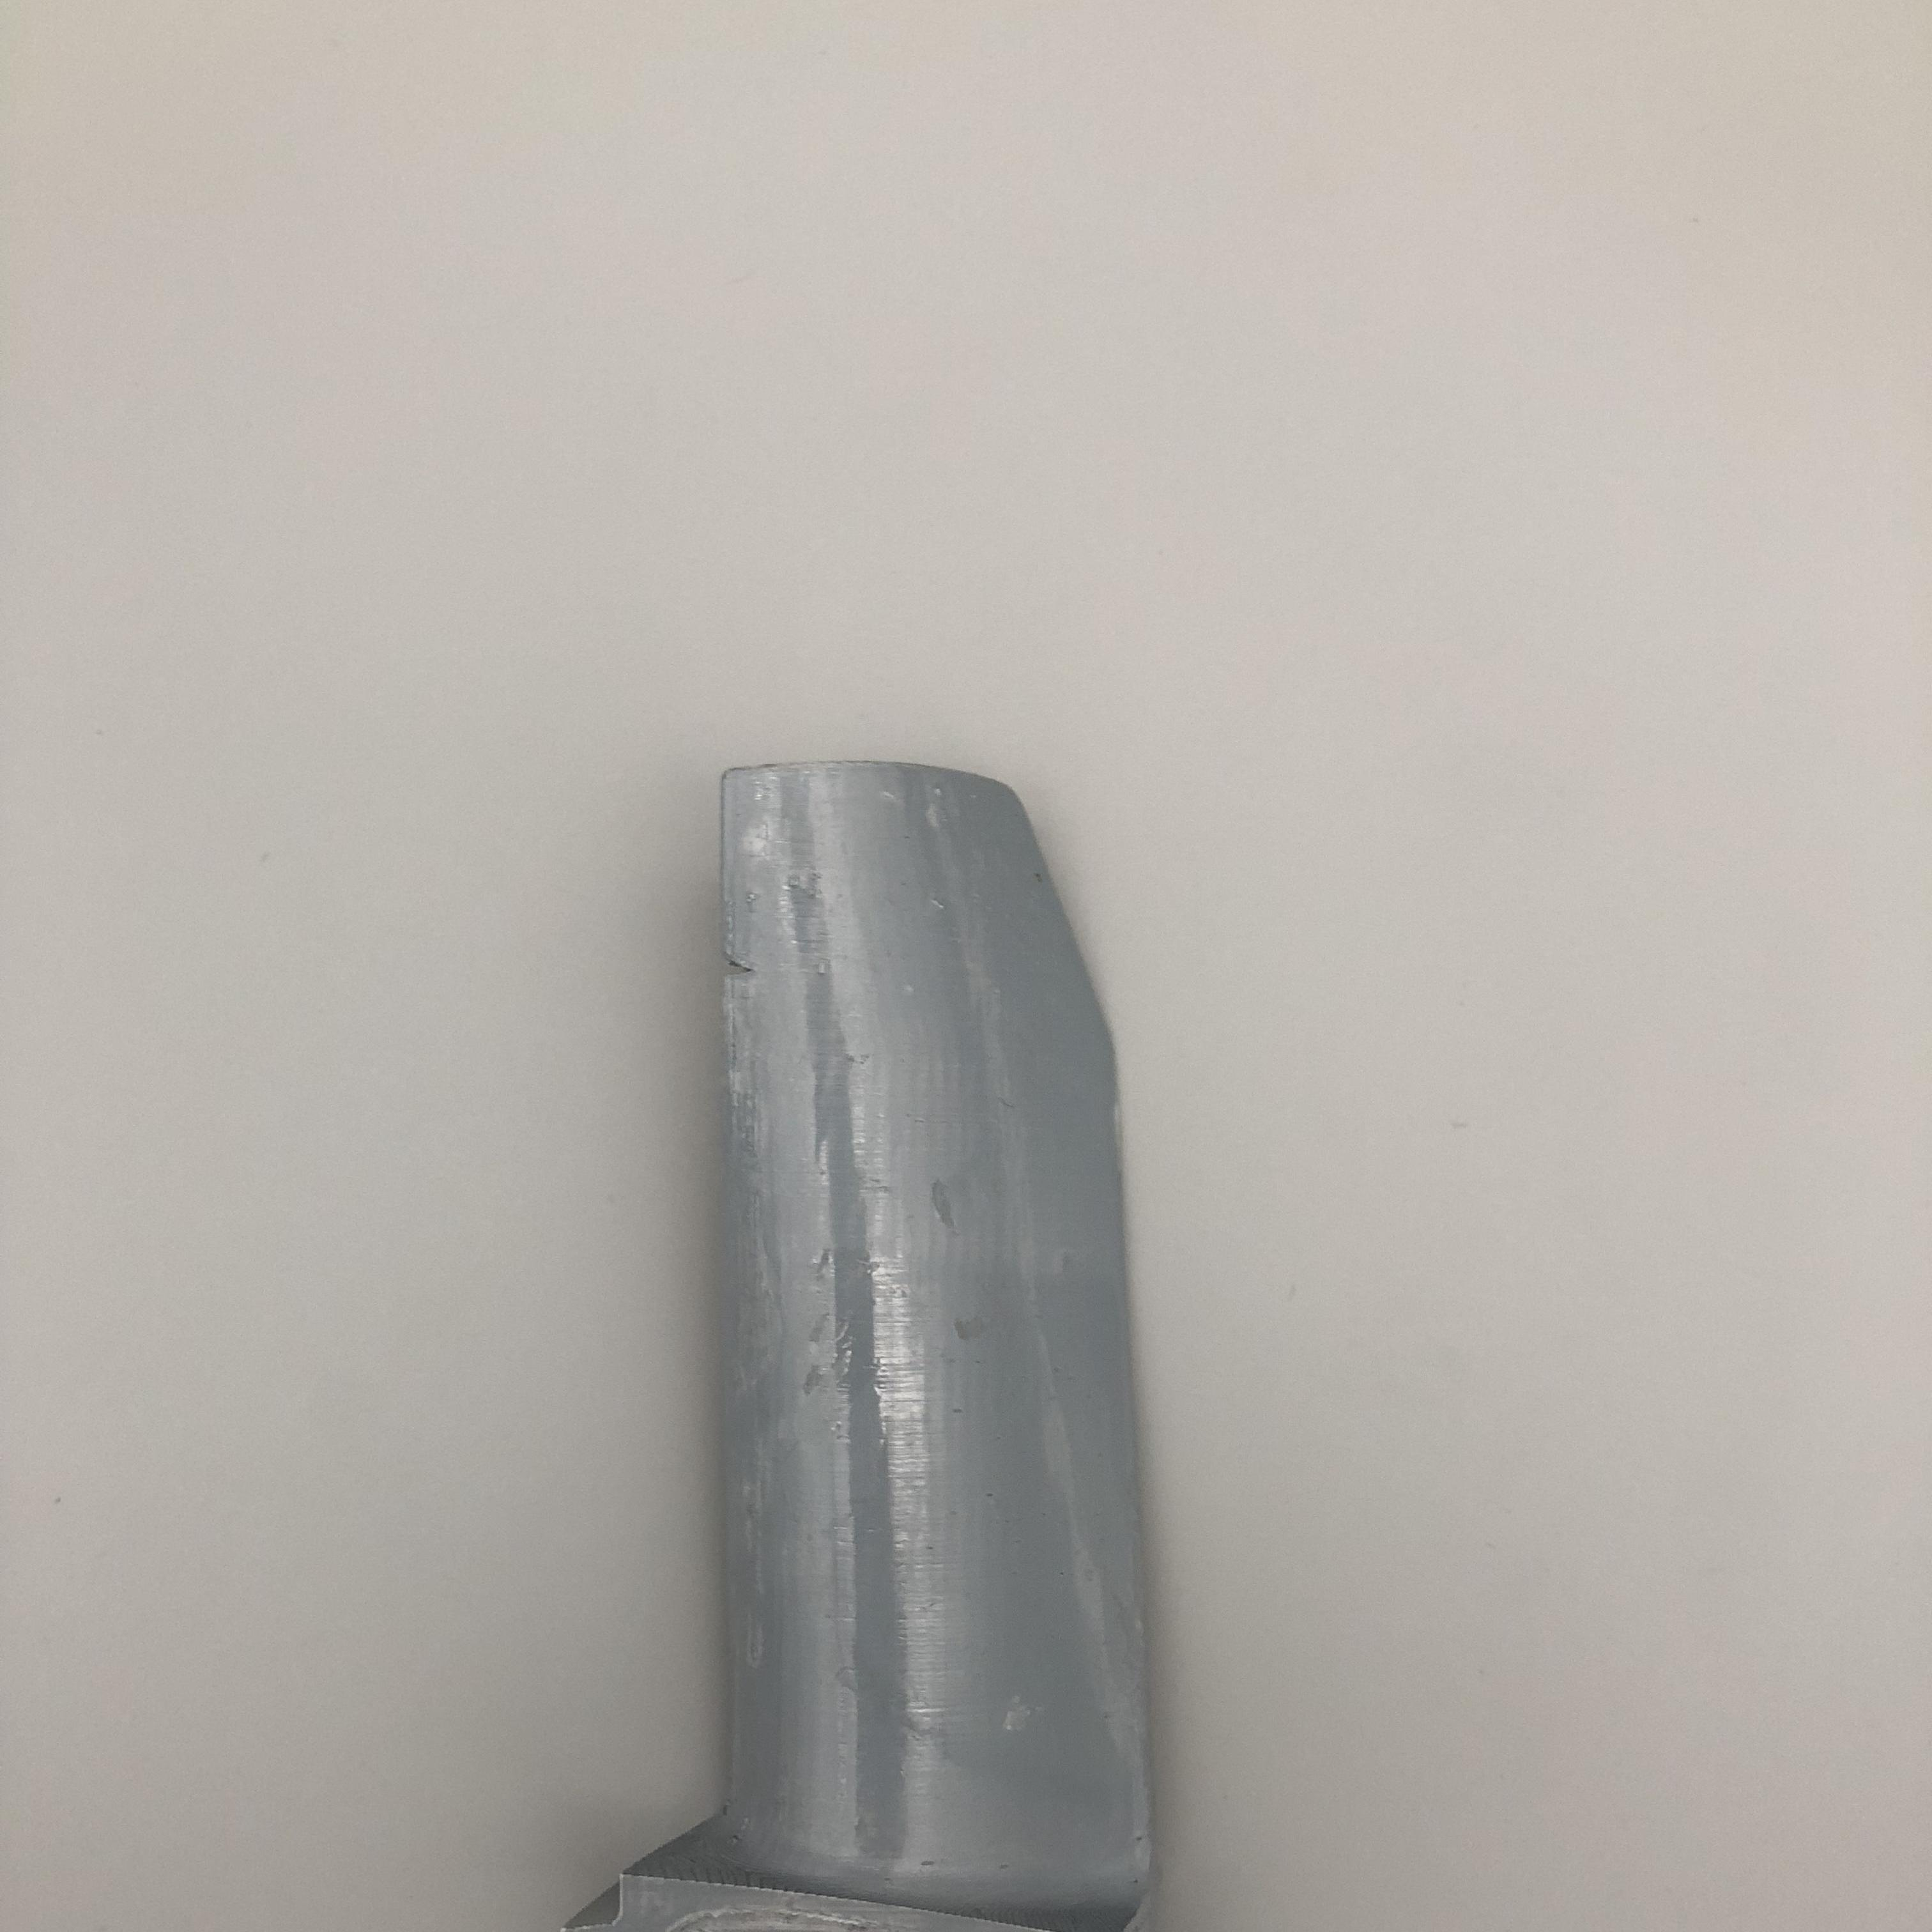groove: (720, 931, 766, 1001)
